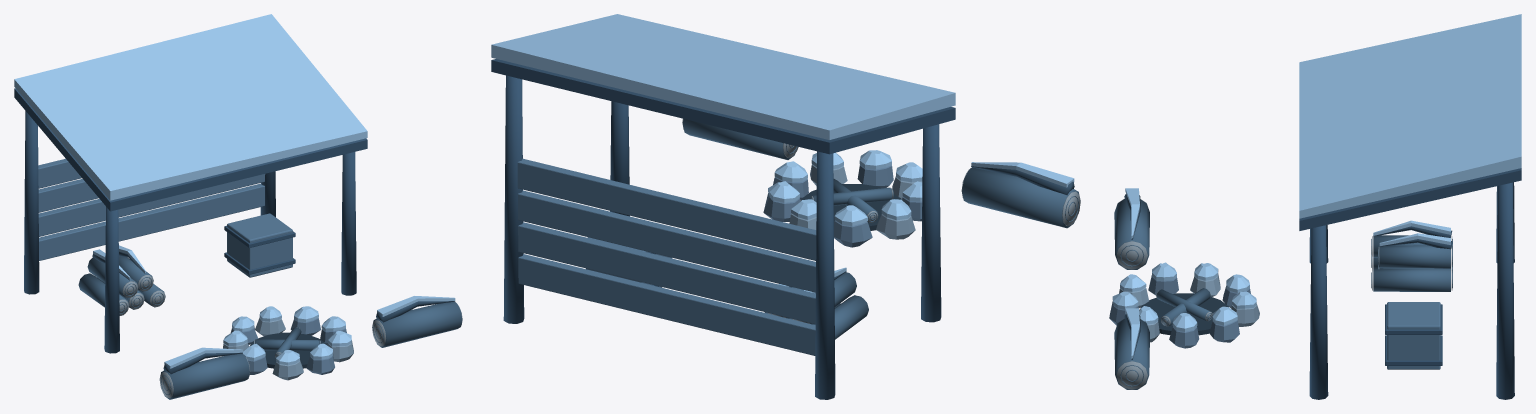
The model's file is camp_shelter.glb.
The picture shows the model from 3 angles, left to right: view 1: azimuth 30°, elevation 25°; view 2: azimuth 150°, elevation 25°; view 3: azimuth 270°, elevation 25°; orthographic projection. The views are drawn at different scales.
Parts seen in each view (by area): view 1: Near; view 2: Near; view 3: Near.
Part boxes in pixels (<box>): Near: <box>14,14,462,399</box>; Near: <box>491,14,1080,399</box>; Near: <box>1109,14,1521,399</box>.
Bounding box in the file's own units: 4.79 × 3.33 × 5.08.
